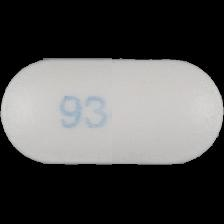21695-343: (0, 0, 224, 224)
